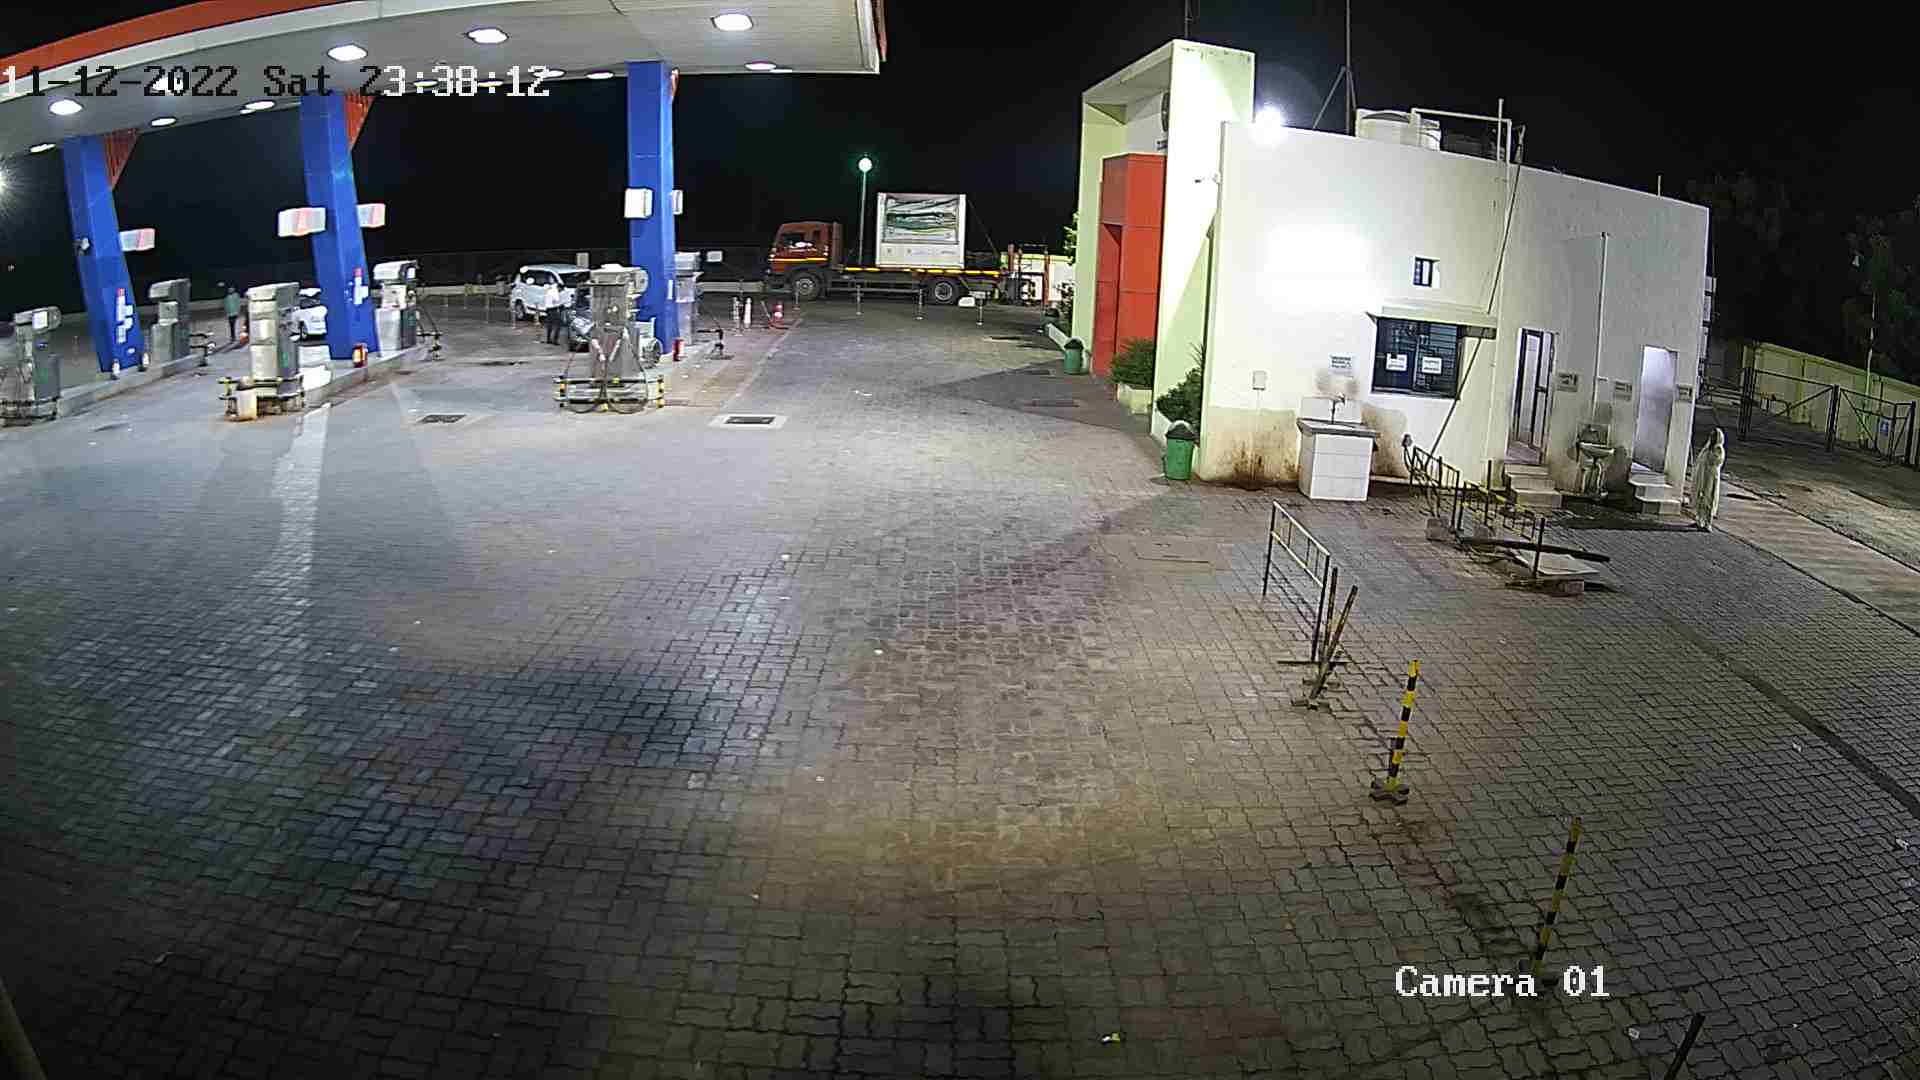Car: (502, 257, 592, 324), (556, 269, 607, 356), (287, 281, 332, 344)
HMV: (754, 185, 1044, 313)
